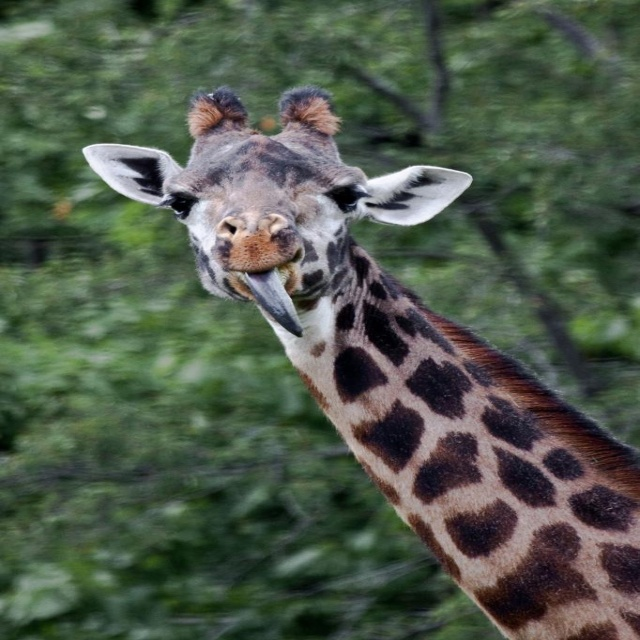Giraffe: (86, 101, 639, 631)
